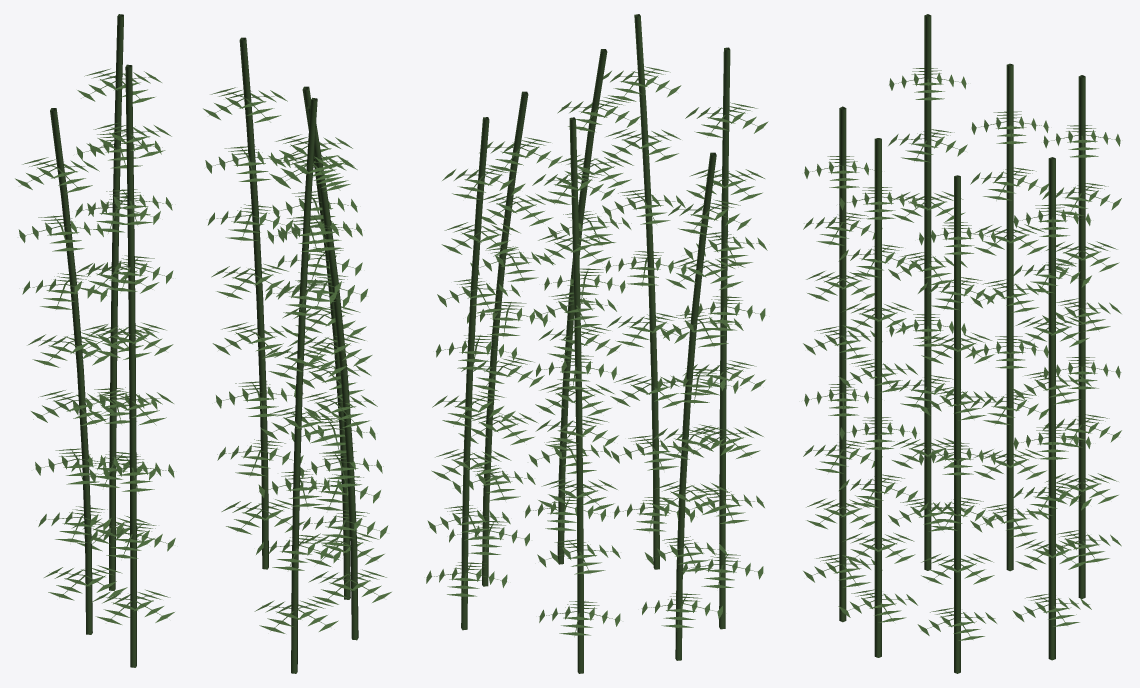
Rendered from lake-urut-shallows-0.glb.
3 renders of one model, left to right at view 1: azimuth 30°, elevation 25°; view 2: azimuth 150°, elevation 25°; view 3: azimuth 270°, elevation 25°, orthographic. The views are drawn at different scales.
Parts seen in each view (by area): view 1: lake-urut-shallows-0; view 2: lake-urut-shallows-0; view 3: lake-urut-shallows-0.
Boxes of the visible parts, box(x1,y1,x2,y2) form: lake-urut-shallows-0: box(15, 14, 391, 673); lake-urut-shallows-0: box(426, 14, 768, 673); lake-urut-shallows-0: box(803, 14, 1121, 673).
Bounding box in the file's own units: 0.398 × 0.6806 × 0.3652.
